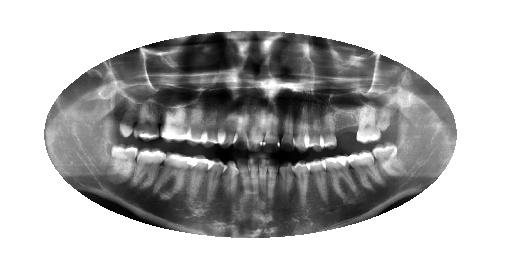Cavity: (262, 96, 283, 154), (234, 103, 253, 151), (279, 159, 293, 205)
Fillings: (156, 152, 197, 204), (348, 151, 388, 194), (323, 154, 358, 200), (188, 153, 213, 204)
